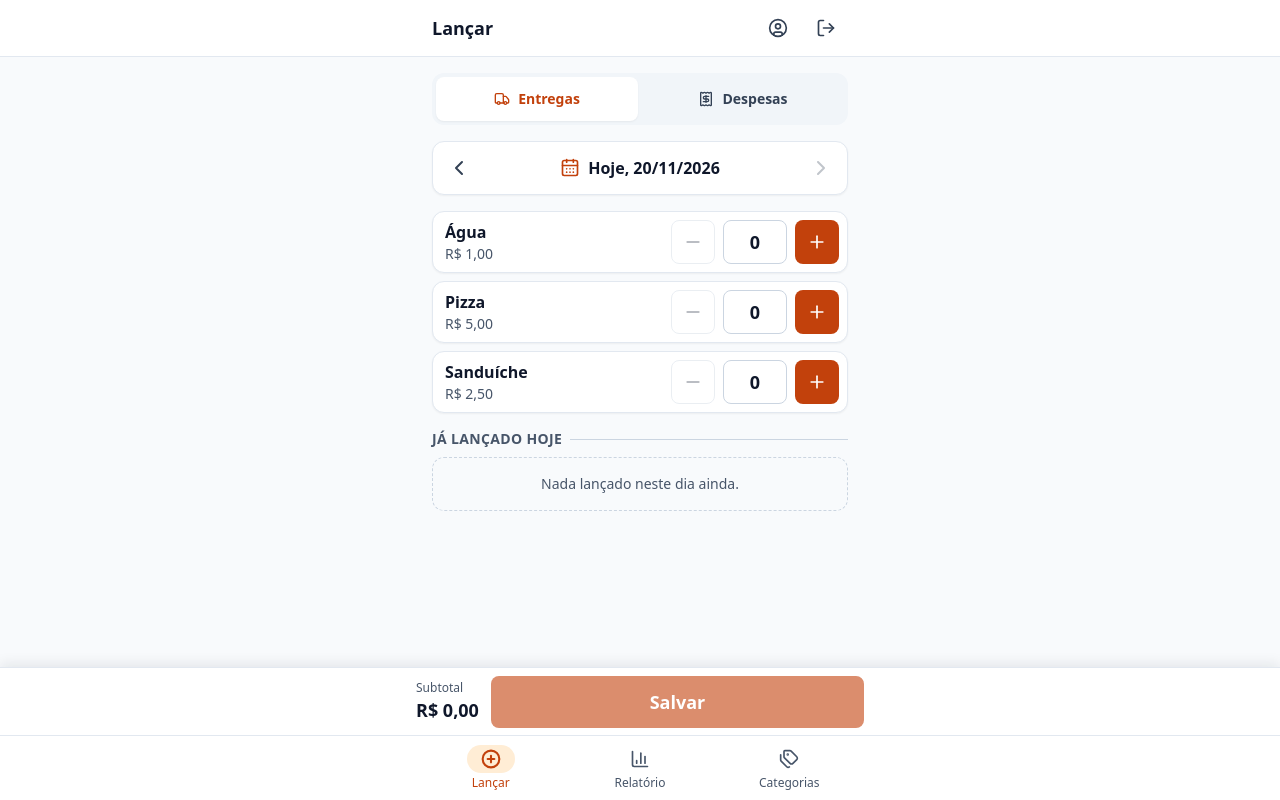
it: LancamentosPage › Salvar fica desabilitado com tudo zero
Expected: the field named "Sanduíche" in the row of "Sanduíche" is shown, x1=723 y1=360 x2=787 y2=404
Expected: the button "Salvar" is disabled, x1=491 y1=676 x2=864 y2=728
Click the button named "Aumentar Pizza". click: x=817, y=312
box: x1=795 y1=290 x2=839 y2=334
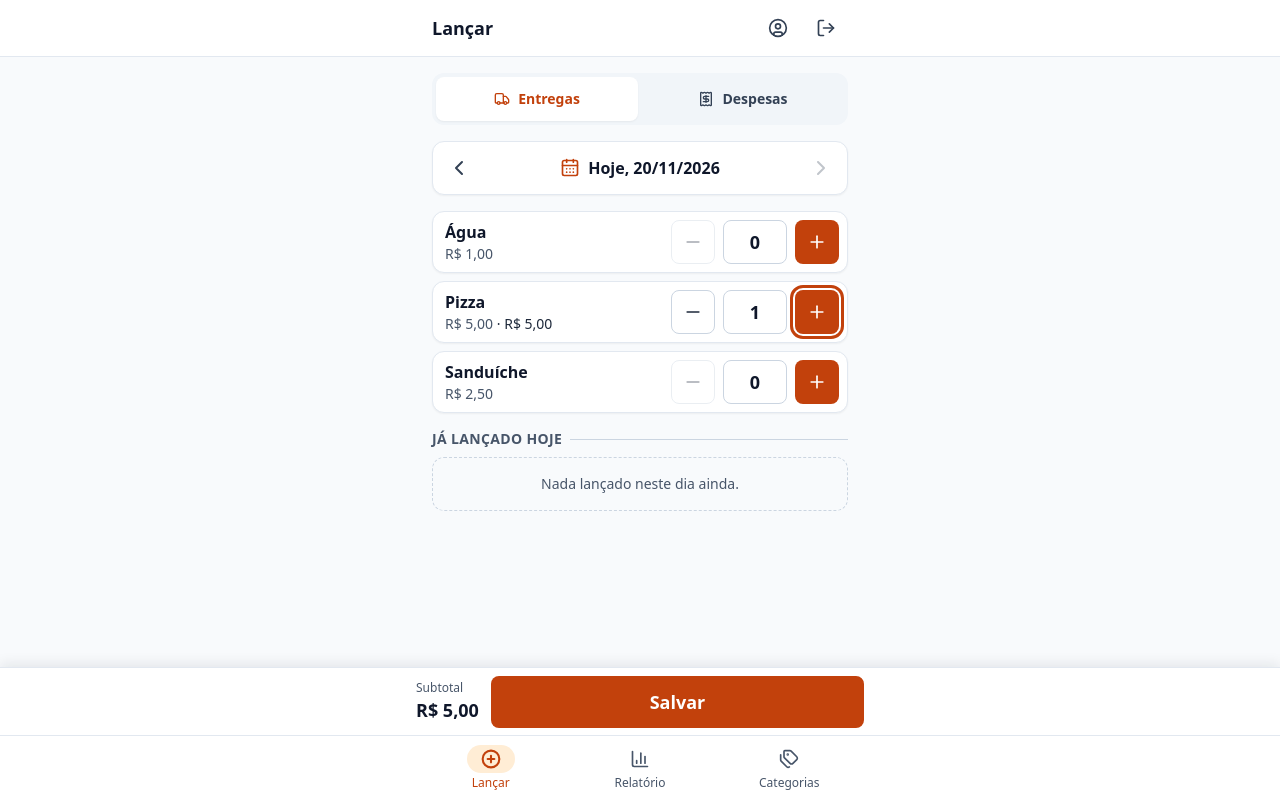
Expected: the button "Salvar" is enabled, x1=491 y1=676 x2=864 y2=728
Click the button named "Diminuir Pizza". click: x=693, y=312
box: x1=671 y1=290 x2=715 y2=334
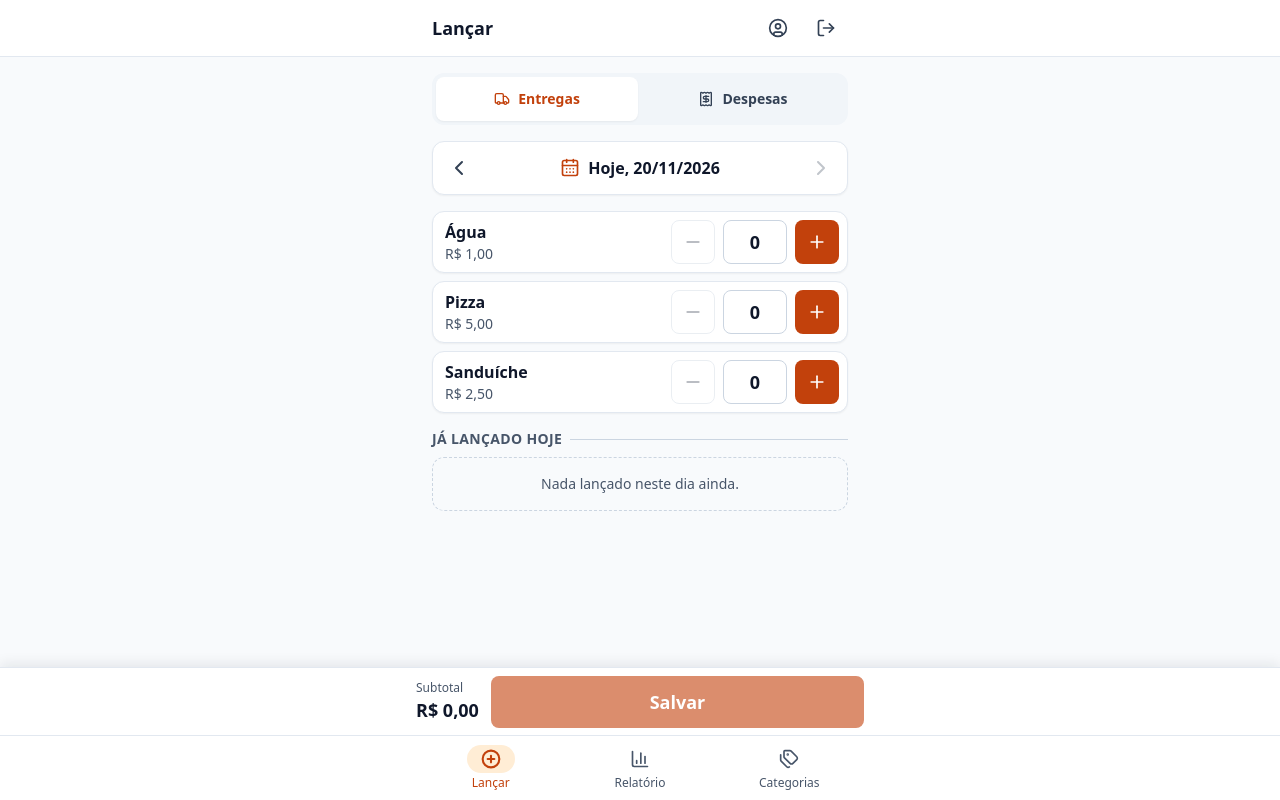
Expected: the button "Salvar" is disabled, x1=491 y1=676 x2=864 y2=728
